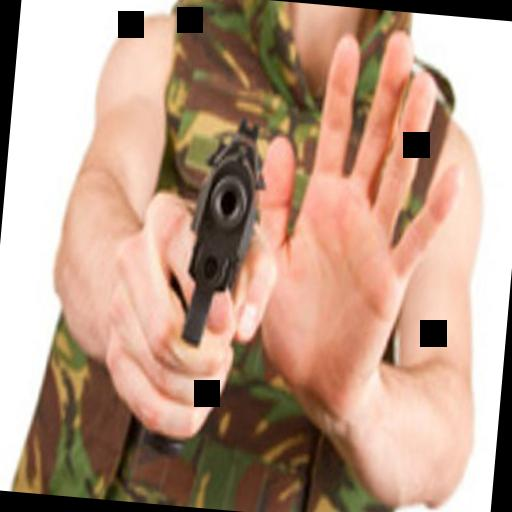Handgun: (156, 96, 274, 375)
